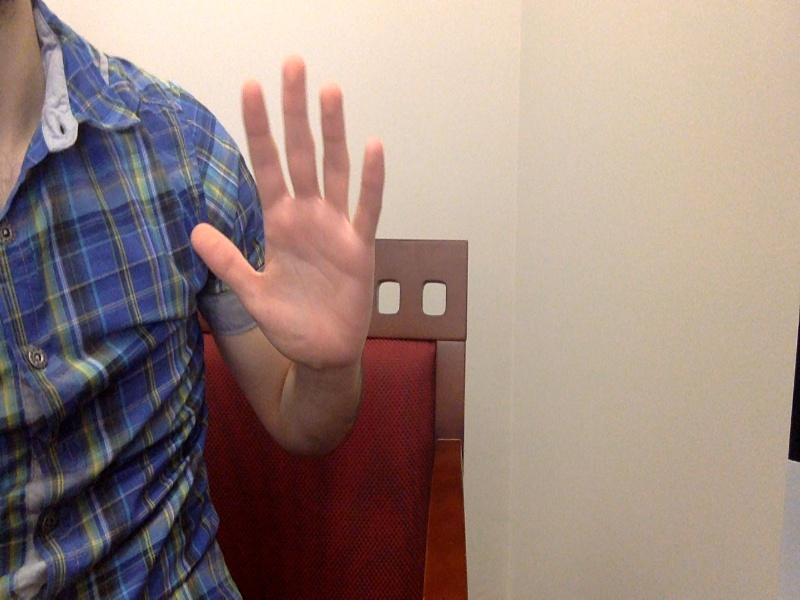5-hand: (190, 55, 389, 369)
